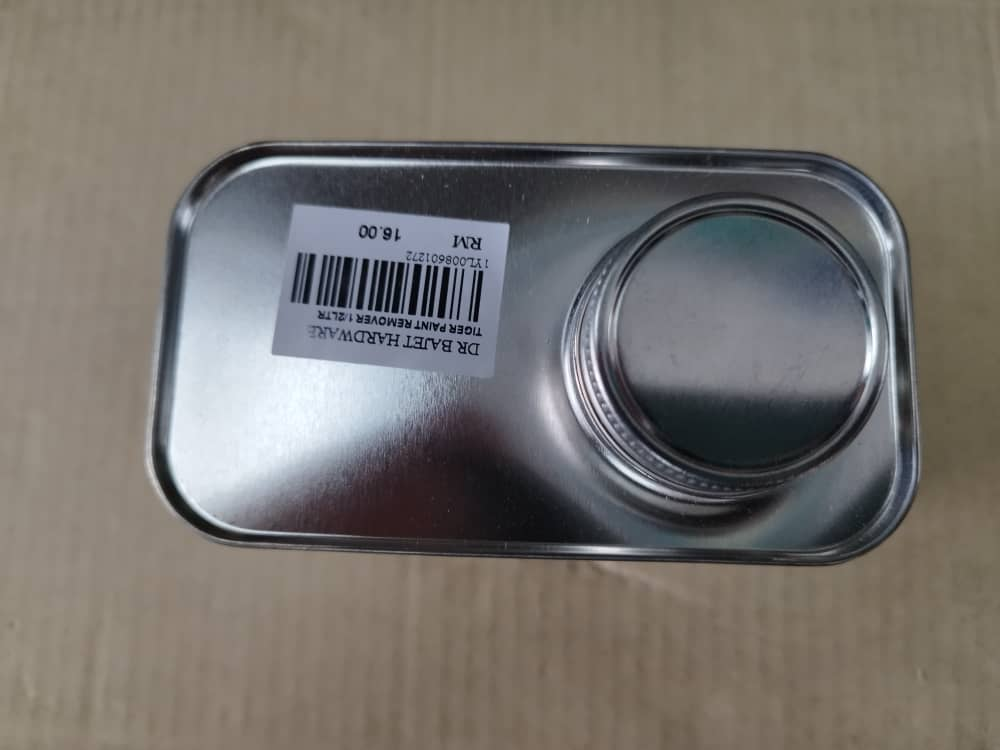sku_glue: (148, 115, 939, 587)
